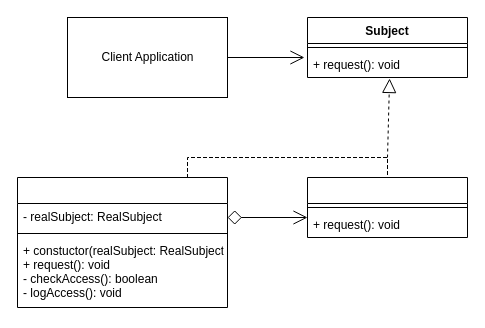
The diagram is 485 pixels wide and 328 high, and some of its shapes have lost their labels. The box of each missing label's shape, as (x1, y1, x2, y2) in pixels:
ProxySubject: (16, 176, 228, 308)
RealSubject: (306, 176, 468, 238)
